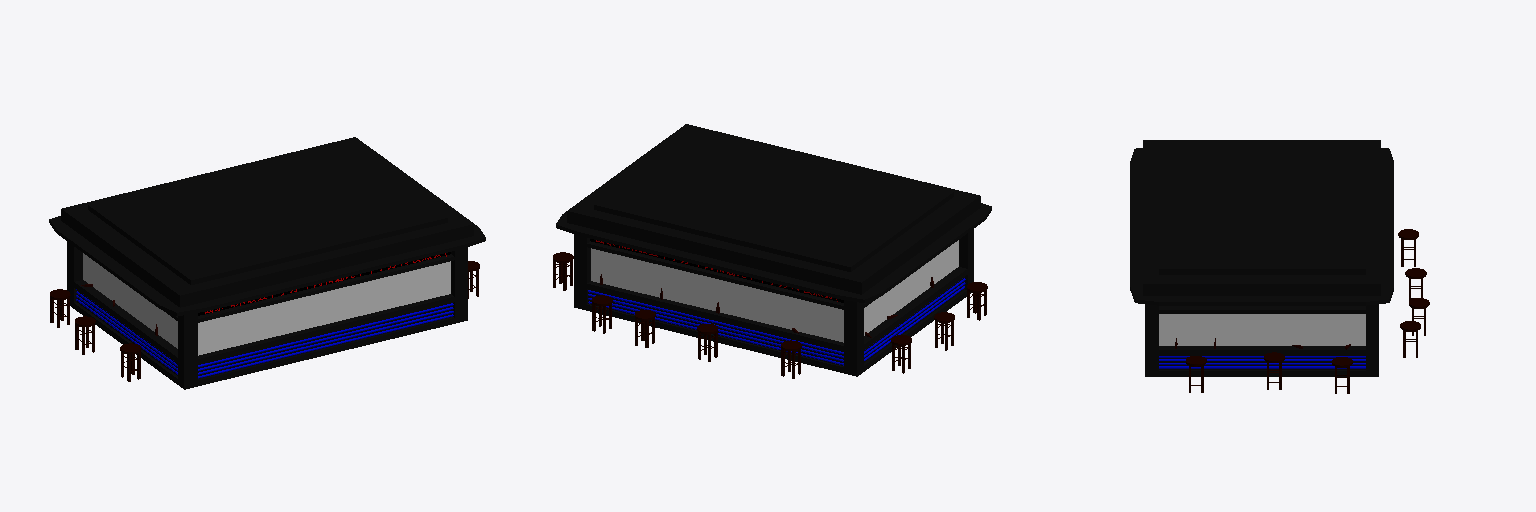
Rendered from sideBar.obj.
3 renders of one model, left to right at view 1: azimuth 30°, elevation 25°; view 2: azimuth 150°, elevation 25°; view 3: azimuth 270°, elevation 25°, orthographic.
Parts seen in each view (by area): view 1: Cube.009_Cube.017, Vert.019_Vert.017, Vert.020; view 2: Cube.009_Cube.017, Vert.018, Vert.020; view 3: Cube.009_Cube.017, Vert.021_Vert.019.
Part boxes in pixels (bbox=[...]): Cube.009_Cube.017: bbox=[49, 137, 485, 389]; Vert.019_Vert.017: bbox=[198, 303, 453, 378]; Vert.020: bbox=[76, 289, 177, 374]; Cube.009_Cube.017: bbox=[556, 124, 991, 376]; Vert.018: bbox=[588, 290, 843, 365]; Vert.020: bbox=[864, 278, 965, 360]; Cube.009_Cube.017: bbox=[1130, 140, 1393, 376]; Vert.021_Vert.019: bbox=[1159, 356, 1365, 368].
Bounding box in the file's own units: 18.05 × 4.77 × 12.78.